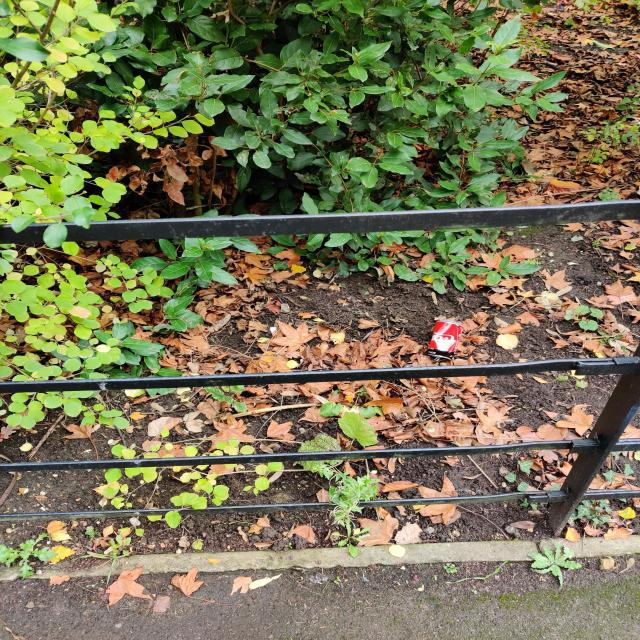litter: (364, 304, 495, 368)
